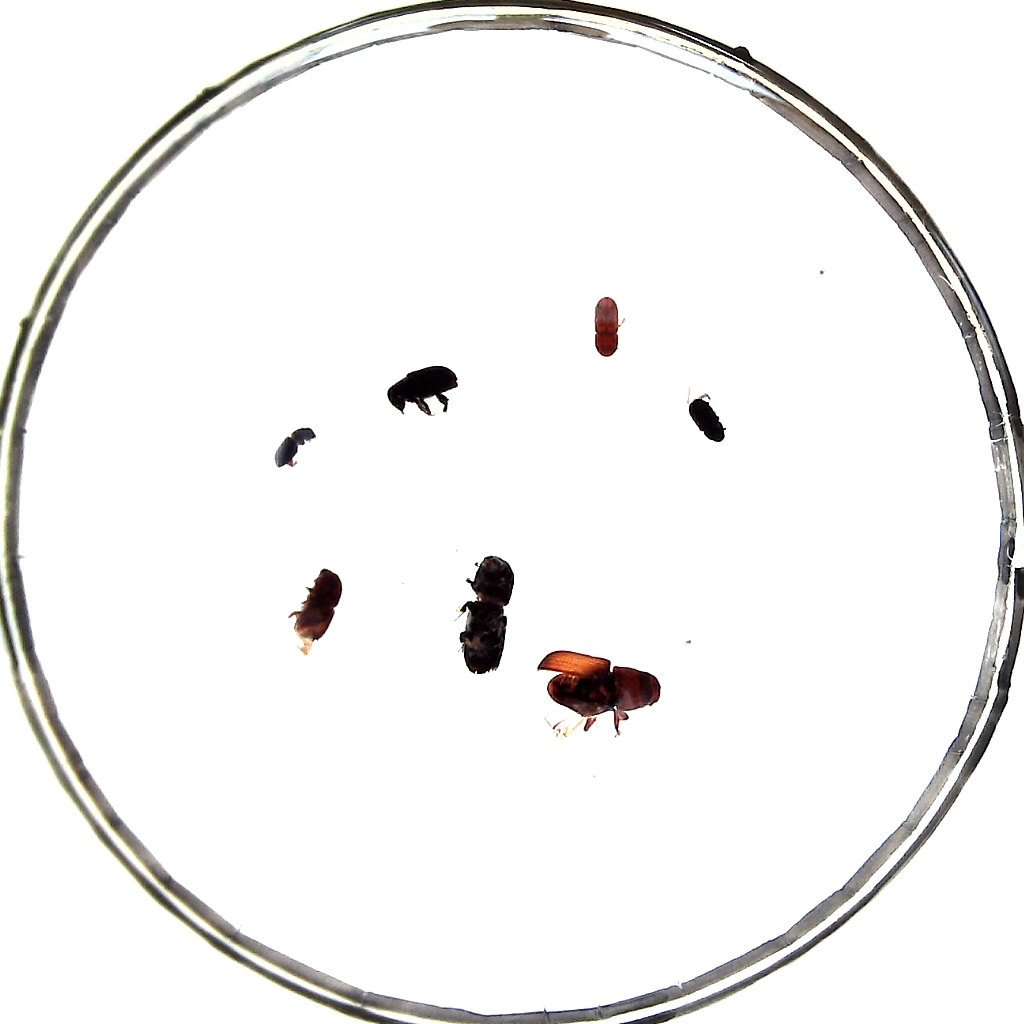Boerner: (464, 554, 511, 678)
Leconte: (538, 649, 661, 720)
Linnaeus: (295, 567, 343, 643)
acuminatus: (592, 297, 622, 357)
armandi: (391, 364, 462, 412)
coleoptera: (274, 427, 317, 472), (688, 396, 728, 442)
